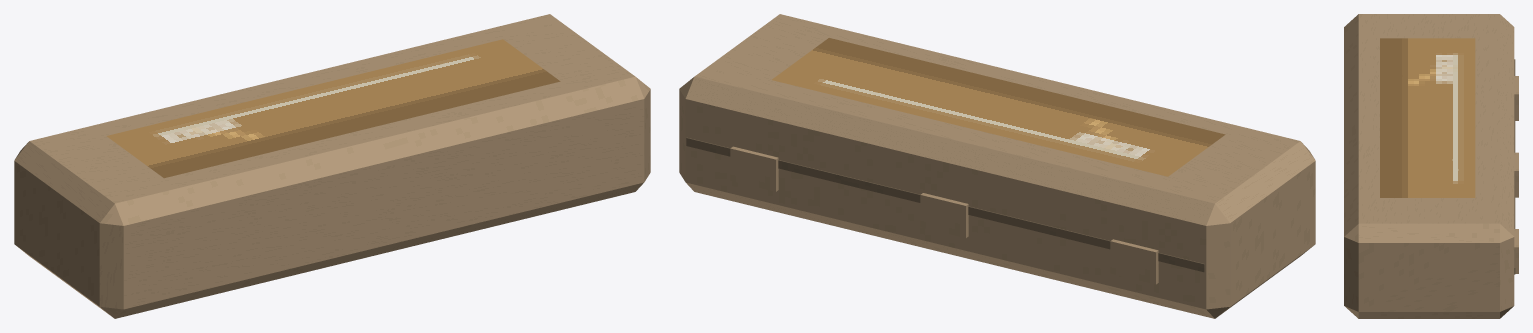
Rendered from carton_egg_6.glb.
3 renders of one model, left to right at view 1: azimuth 30°, elevation 25°; view 2: azimuth 150°, elevation 25°; view 3: azimuth 270°, elevation 25°, orthographic. The views are drawn at different scales.
Parts seen in each view (by area): view 1: block_pressed pulp carton, block_farm label; view 2: block_pressed pulp carton, block_farm label, block_lid seam, block_latch -0.1, block_latch 0, block_latch 0.1; view 3: block_pressed pulp carton, block_farm label, block_lid seam, block_latch 0, block_latch -0.1, block_latch 0.1.
Boxes of the visible parts, left/top/right/bottom form: block_pressed pulp carton: left=14, top=14, right=650, bottom=318; block_farm label: left=106, top=39, right=560, bottom=178; block_pressed pulp carton: left=679, top=14, right=1315, bottom=318; block_farm label: left=772, top=38, right=1225, bottom=176; block_lid seam: left=686, top=137, right=1204, bottom=272; block_latch -0.1: left=1110, top=239, right=1158, bottom=284; block_latch 0: left=920, top=193, right=968, bottom=237; block_latch 0.1: left=730, top=146, right=778, bottom=191; block_pressed pulp carton: left=1344, top=14, right=1514, bottom=318; block_farm label: left=1380, top=38, right=1475, bottom=197; block_lid seam: left=1514, top=59, right=1515, bottom=274; block_latch 0: left=1514, top=152, right=1518, bottom=197; block_latch -0.1: left=1514, top=76, right=1518, bottom=120; block_latch 0.1: left=1514, top=229, right=1518, bottom=273.
Bounding box in the file's own units: 0.29 × 0.0584 × 0.0964.
Materials: 1 (1 with a texture image).
